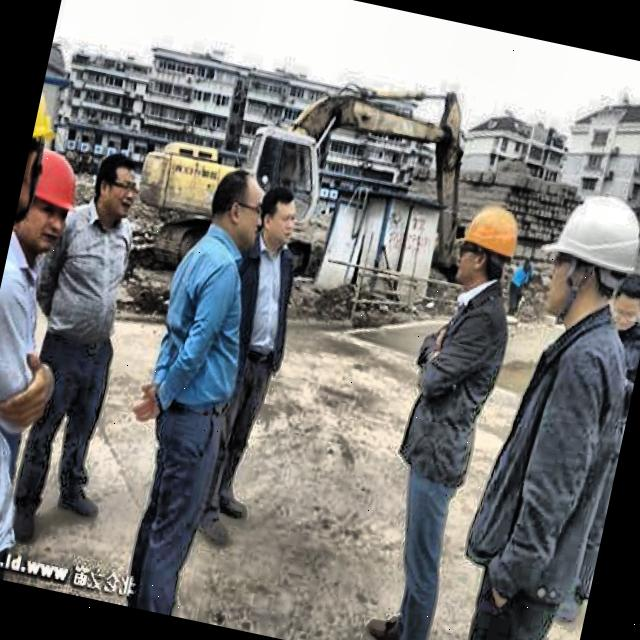helmet: (521, 165, 640, 343), (9, 136, 90, 264), (443, 192, 532, 302)
